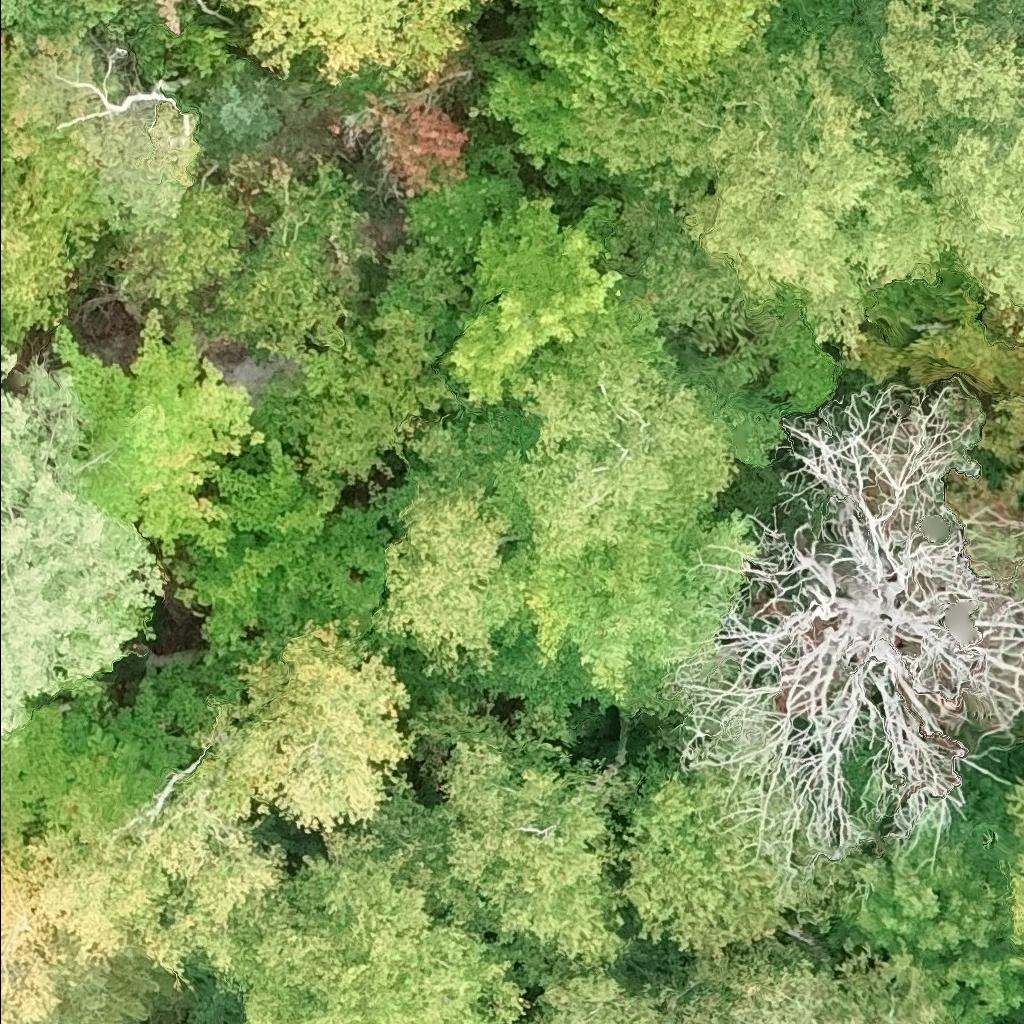crown: (673, 379, 1023, 885), (0, 621, 418, 1023), (601, 24, 953, 360), (370, 691, 647, 983), (0, 335, 154, 757), (221, 826, 532, 1023), (56, 308, 267, 556), (408, 168, 632, 397), (621, 756, 853, 967), (179, 443, 408, 653), (829, 779, 1023, 1023), (499, 366, 735, 559), (368, 431, 546, 680), (296, 241, 471, 492), (529, 516, 758, 701), (0, 665, 217, 843), (207, 168, 372, 352), (493, 0, 660, 166), (668, 934, 952, 1023), (218, 0, 485, 90), (913, 123, 1023, 336), (880, 0, 1023, 141), (120, 181, 254, 315), (328, 85, 470, 199), (603, 0, 781, 89), (0, 125, 96, 262), (0, 164, 77, 327), (58, 53, 179, 131), (519, 971, 670, 1023), (198, 78, 282, 161), (0, 0, 121, 48), (997, 783, 1023, 974), (0, 308, 27, 345), (489, 0, 507, 3), (0, 35, 2, 43)
